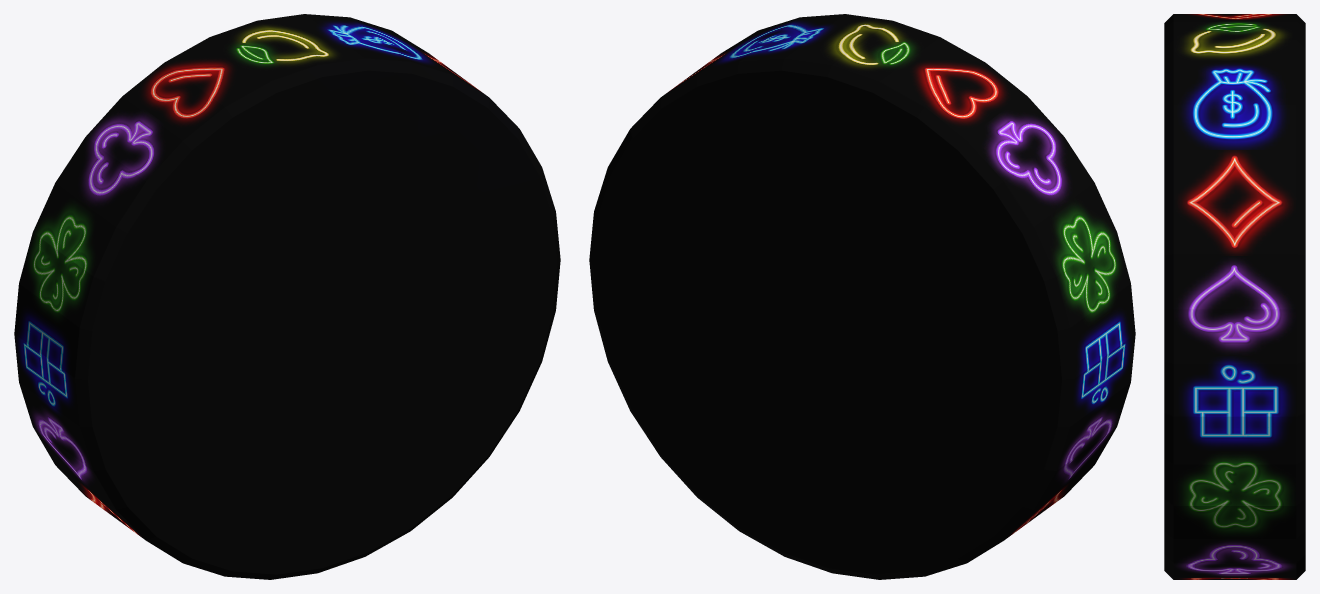
The picture shows the model from 3 angles, left to right: view 1: azimuth 30°, elevation 25°; view 2: azimuth 150°, elevation 25°; view 3: azimuth 270°, elevation 25°; orthographic projection.
Visible parts, largest first — view 1: Cylinder; view 2: Cylinder; view 3: Cylinder.
Part boxes in pixels (box(x1,y1,x2,y2)): Cylinder: box(14, 14, 560, 579); Cylinder: box(589, 14, 1135, 579); Cylinder: box(1164, 14, 1305, 579).
Size of the model in its own units: 0.6 by 0.6 by 0.15.
1 material, 1 textured.
